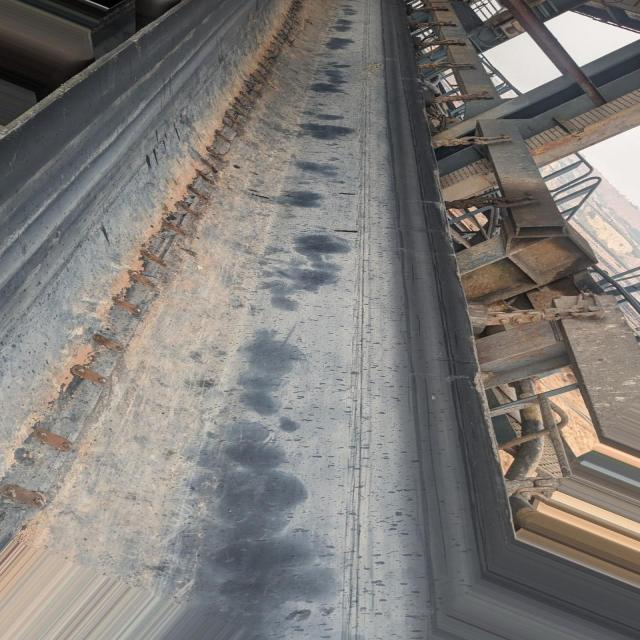patch work: (0, 0, 332, 527)
